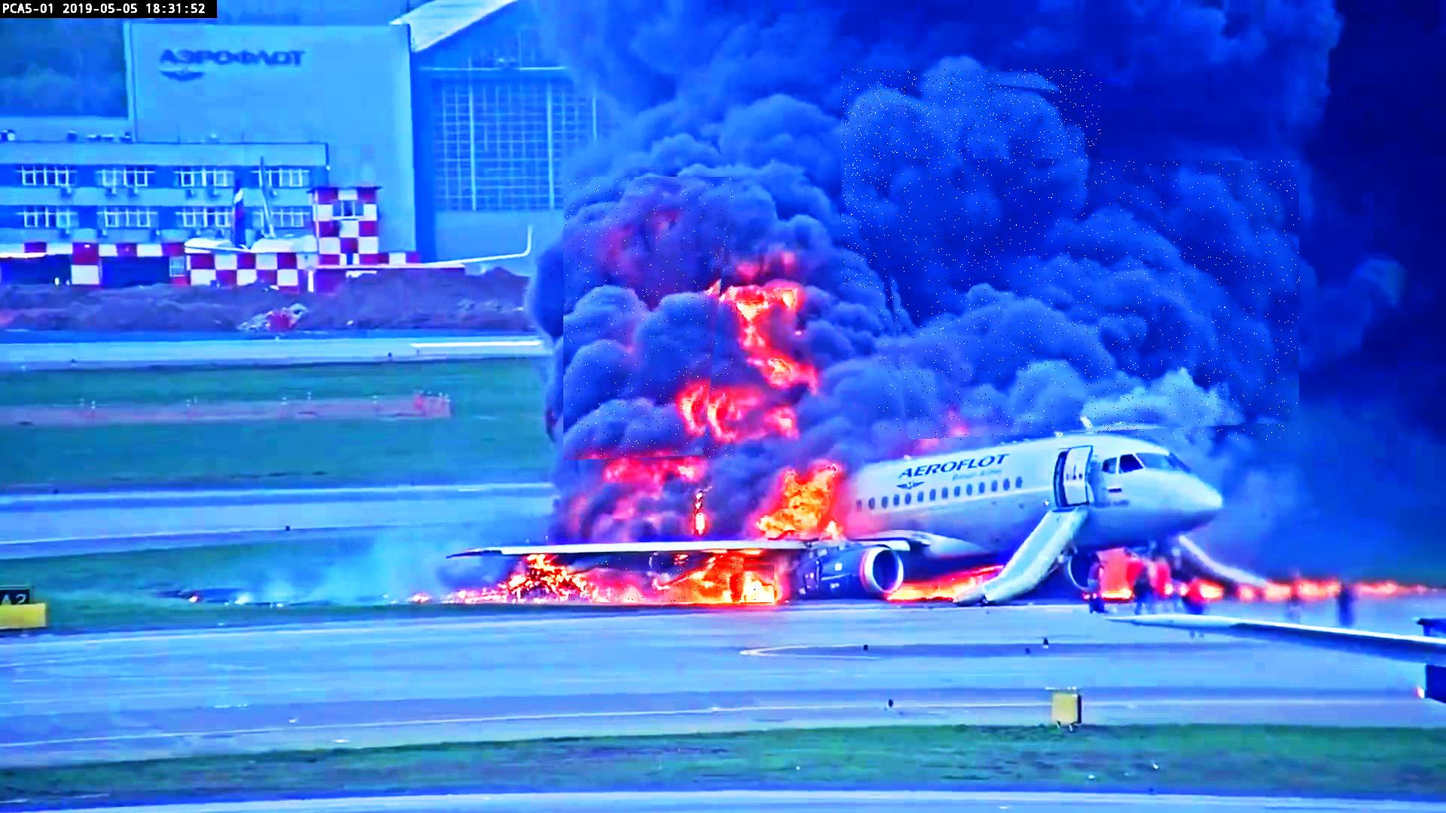fire: (569, 557, 776, 603)
smoke: (879, 161, 1301, 440), (842, 70, 1102, 288), (563, 178, 733, 464)
